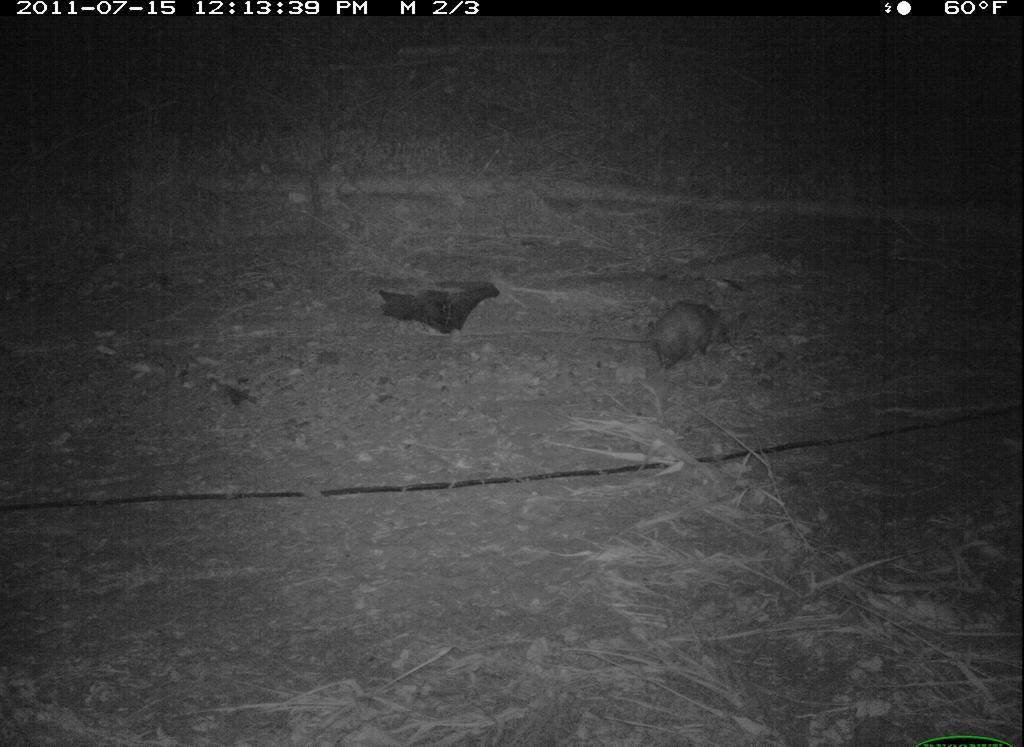opossum: (579, 300, 745, 370)
